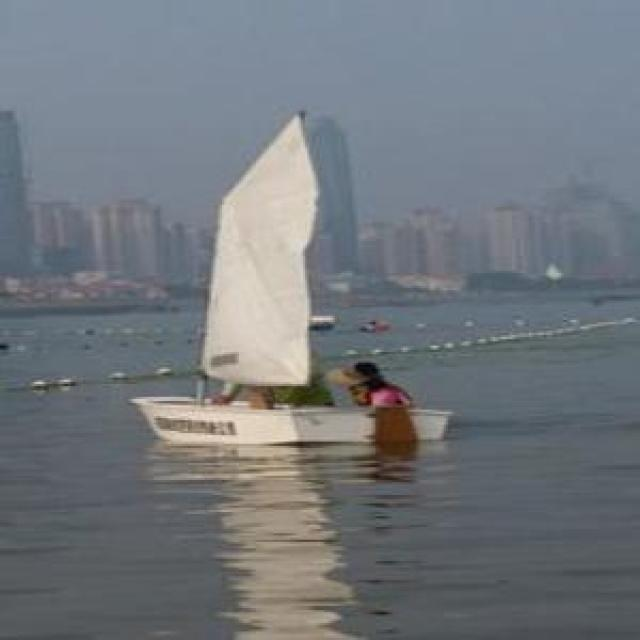sailboat: (129, 109, 450, 445)
